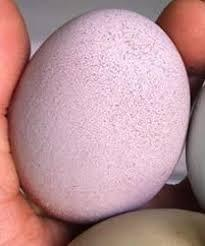egg: (8, 8, 187, 228)
